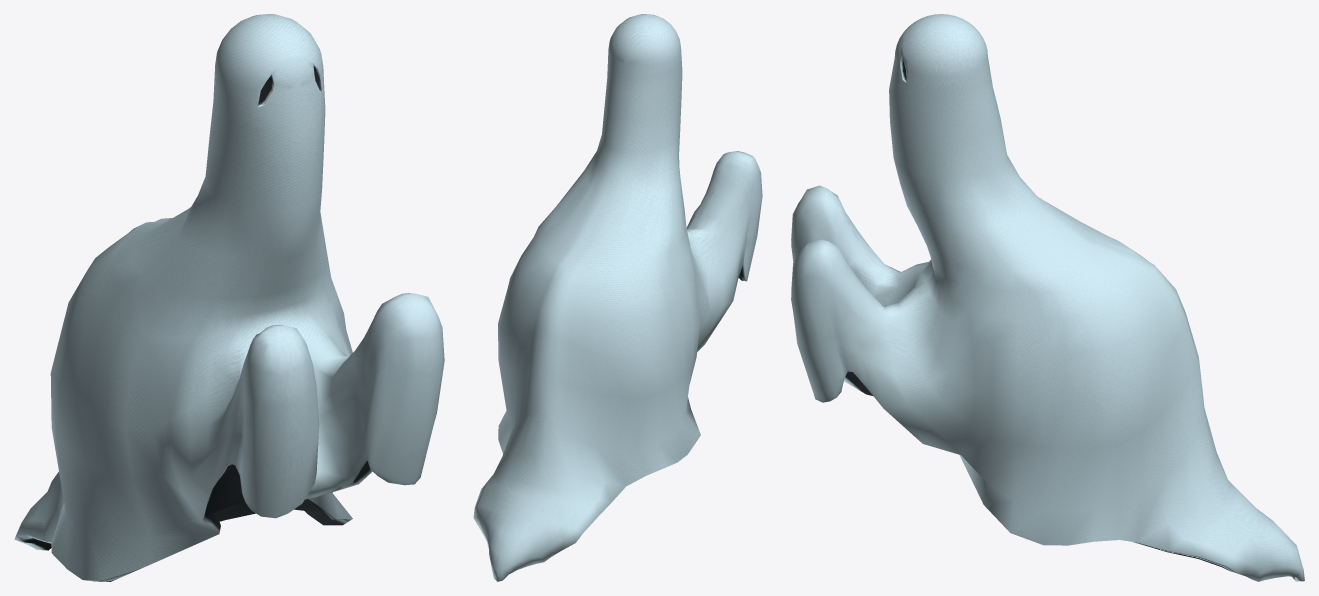
File: Ghost_Guard_Textured.fbx
The picture shows the model from 3 angles, left to right: view 1: azimuth 30°, elevation 25°; view 2: azimuth 150°, elevation 25°; view 3: azimuth 270°, elevation 25°; orthographic projection. The views are drawn at different scales.
Parts seen in each view (by area): view 1: Guard6; view 2: Guard6; view 3: Guard6.
Part boxes in pixels (left/top/right/bottom): Guard6: left=14, top=14, right=444, bottom=581; Guard6: left=473, top=14, right=762, bottom=581; Guard6: left=791, top=14, right=1304, bottom=581.
Size of the model in its own units: 4.15 by 10.75 by 8.88.
1 material, 1 textured.
